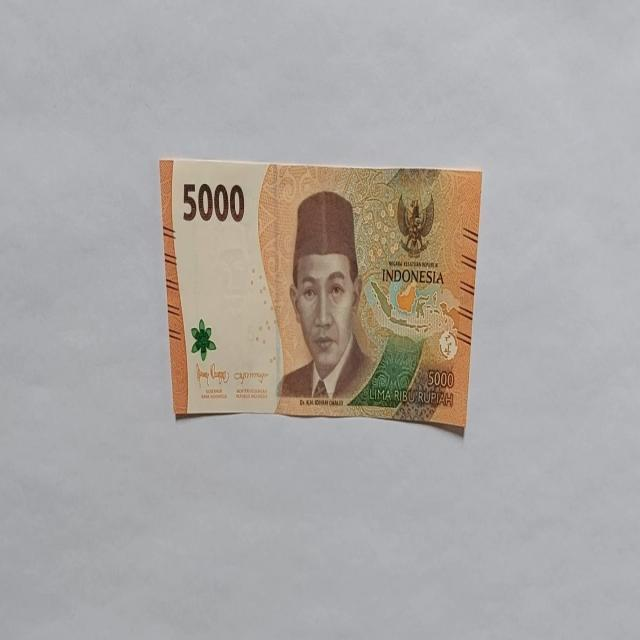lima ribu rupiah: (158, 156, 482, 433), (276, 190, 376, 404)
